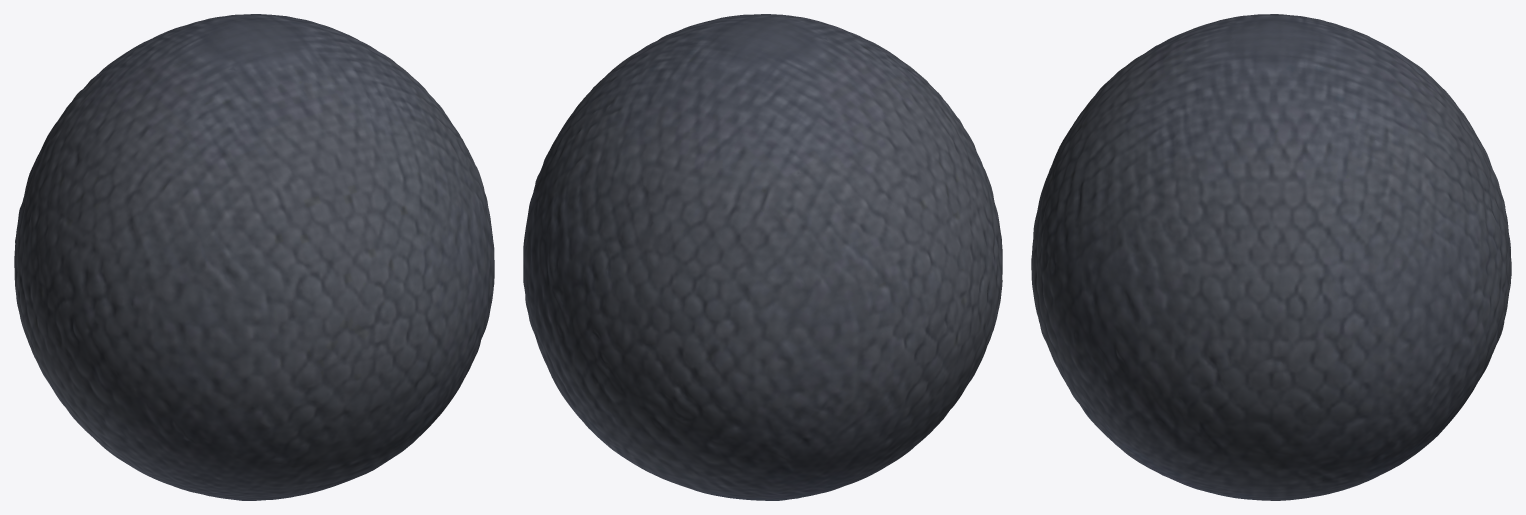
Rendered from ball.glb.
The picture shows the model from 3 angles, left to right: view 1: azimuth 30°, elevation 25°; view 2: azimuth 150°, elevation 25°; view 3: azimuth 270°, elevation 25°; orthographic projection.
Parts seen in each view (by area): view 1: world; view 2: world; view 3: world.
Boxes of the visible parts, x1,y1,x2,y2 form: world: (14,14,494,500); world: (523,14,1002,500); world: (1031,14,1511,500).
Bounding box in the file's own units: 0.5843 × 0.5958 × 0.5839.
1 material, 1 textured.
